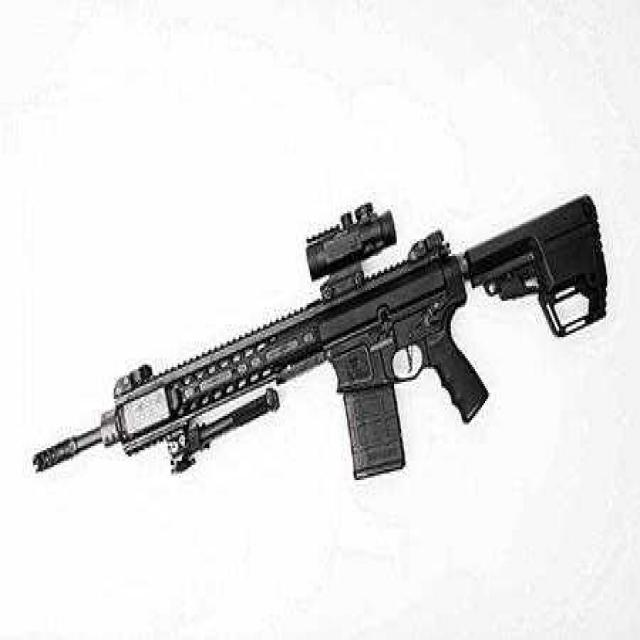weapon: (17, 111, 626, 546)
